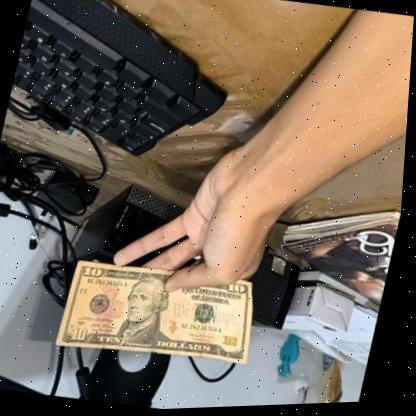ten-front: (54, 247, 274, 372)
